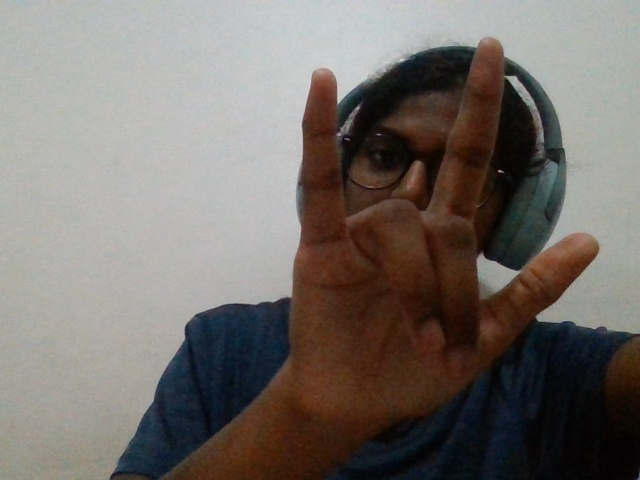I Love You: (257, 29, 603, 449)
